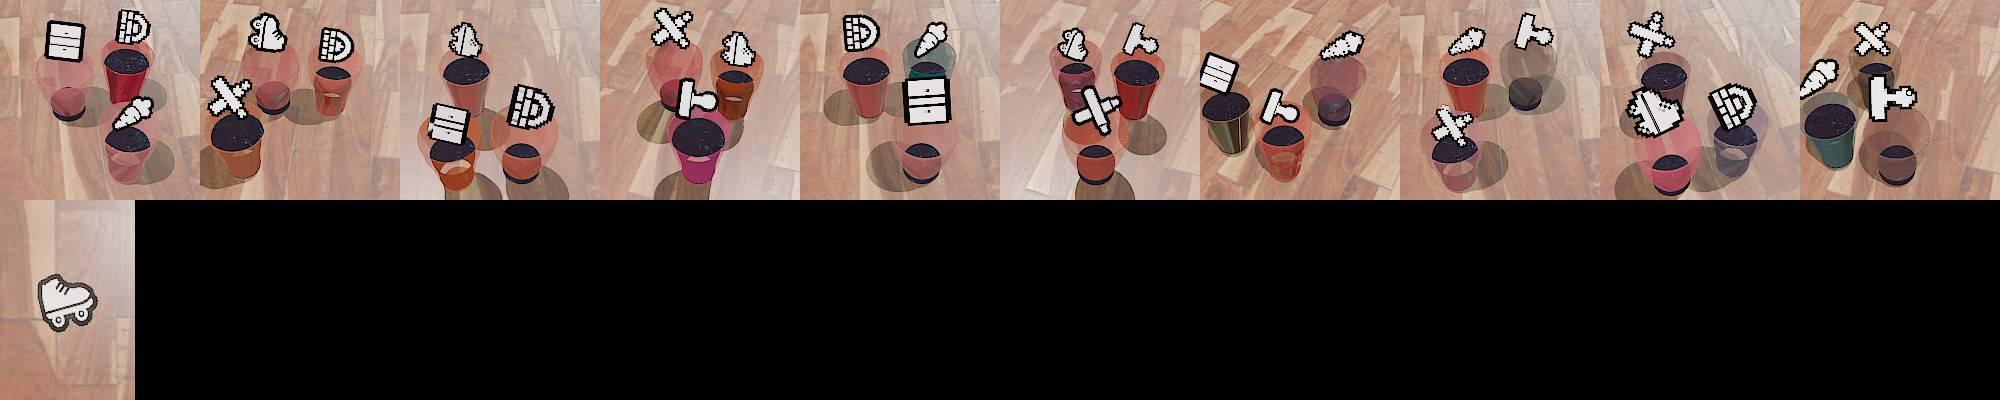icon: (36, 273, 98, 331), (1626, 87, 1685, 138), (903, 75, 953, 126), (1072, 84, 1120, 135), (1709, 84, 1758, 133), (1628, 11, 1677, 59), (1867, 73, 1913, 123), (506, 83, 554, 130), (207, 74, 254, 119), (674, 77, 720, 120), (44, 18, 86, 64), (428, 100, 471, 144), (1432, 103, 1474, 146), (652, 8, 694, 50), (1799, 58, 1840, 100), (111, 95, 156, 133), (247, 12, 288, 53), (1512, 11, 1554, 51), (1260, 86, 1301, 126), (1200, 51, 1238, 94), (1318, 29, 1366, 62), (1853, 20, 1893, 57), (842, 13, 879, 52), (913, 19, 949, 59), (719, 30, 757, 67), (318, 26, 355, 64), (448, 21, 484, 59), (1122, 20, 1160, 56), (116, 9, 151, 46), (1447, 25, 1486, 56), (1057, 26, 1089, 62)
